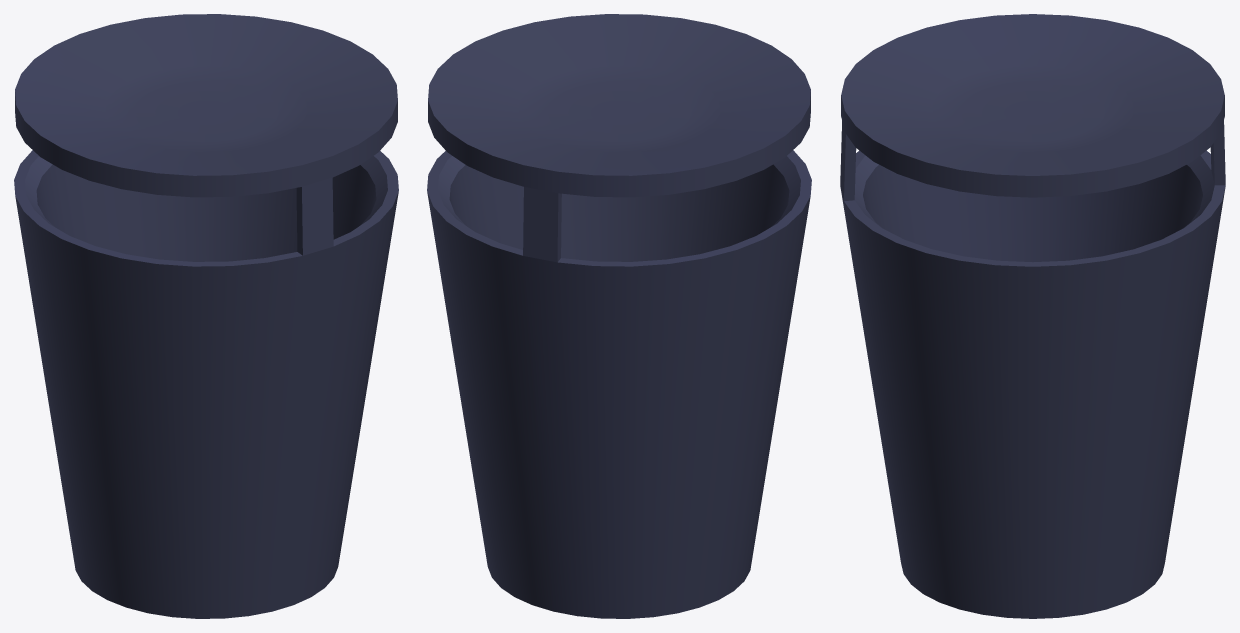
File: Garbage.fbx
3 views of the same model, side by side, from view 1: azimuth 30°, elevation 25°; view 2: azimuth 150°, elevation 25°; view 3: azimuth 270°, elevation 25° (orthographic).
Visible parts, largest first — view 1: Cylinder; view 2: Cylinder; view 3: Cylinder.
Part boxes in pixels (bbox=[...]): Cylinder: bbox=[14, 14, 398, 618]; Cylinder: bbox=[427, 14, 811, 618]; Cylinder: bbox=[840, 14, 1225, 618].
Size of the model in its own units: 68.43 by 91.68 by 68.43.
